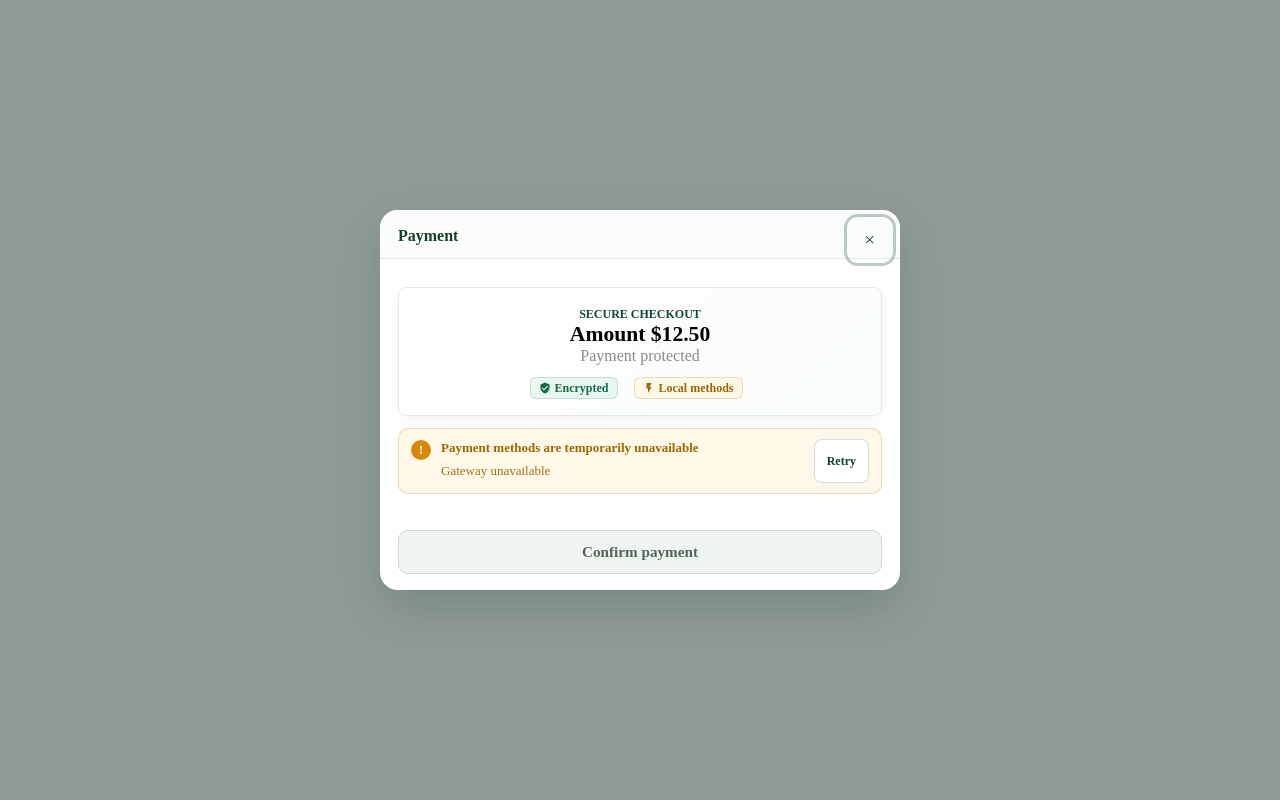
Test: Payment channel loading › shows a channel loading failure and retries the current payment channel request
The width and height of the screenshot is (1280, 800).
Check: the text "Payment methods are temporarily unavailable" is shown, box x1=441 y1=440 x2=699 y2=455
Check: the text "Gateway unavailable" is shown, box x1=441 y1=463 x2=550 y2=478
Click the button "Retry" at (841, 461), box x1=814 y1=439 x2=869 y2=483
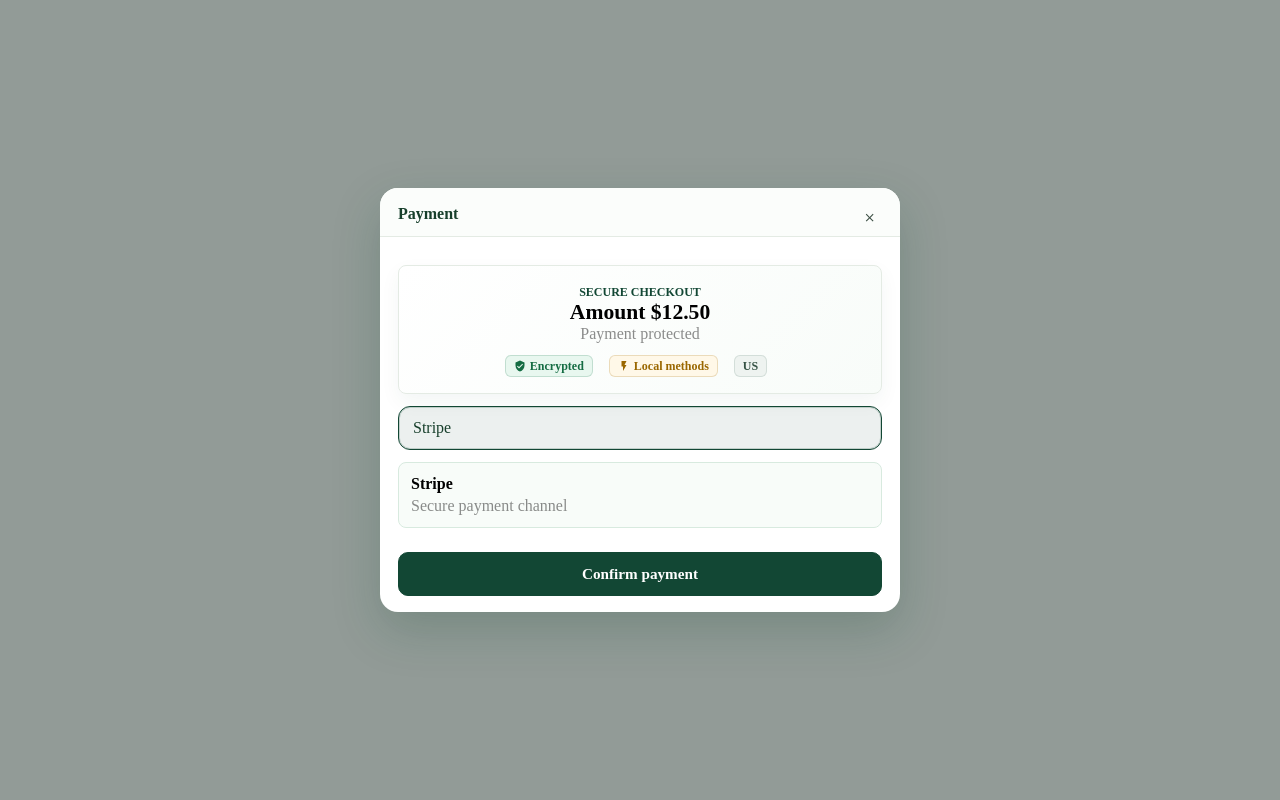
Check: the radio button labelled "Stripe" is checked, box x1=398 y1=406 x2=882 y2=450
